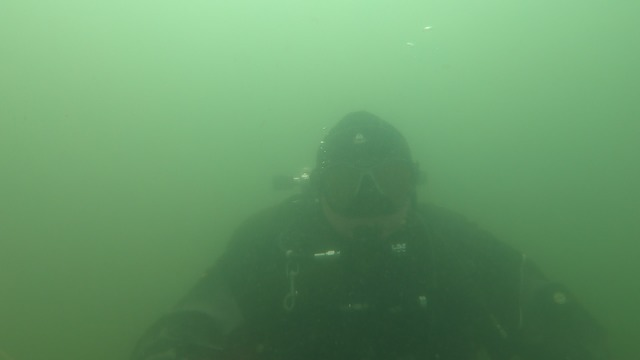Diver: (101, 73, 617, 357)
Head: (282, 99, 430, 284)
